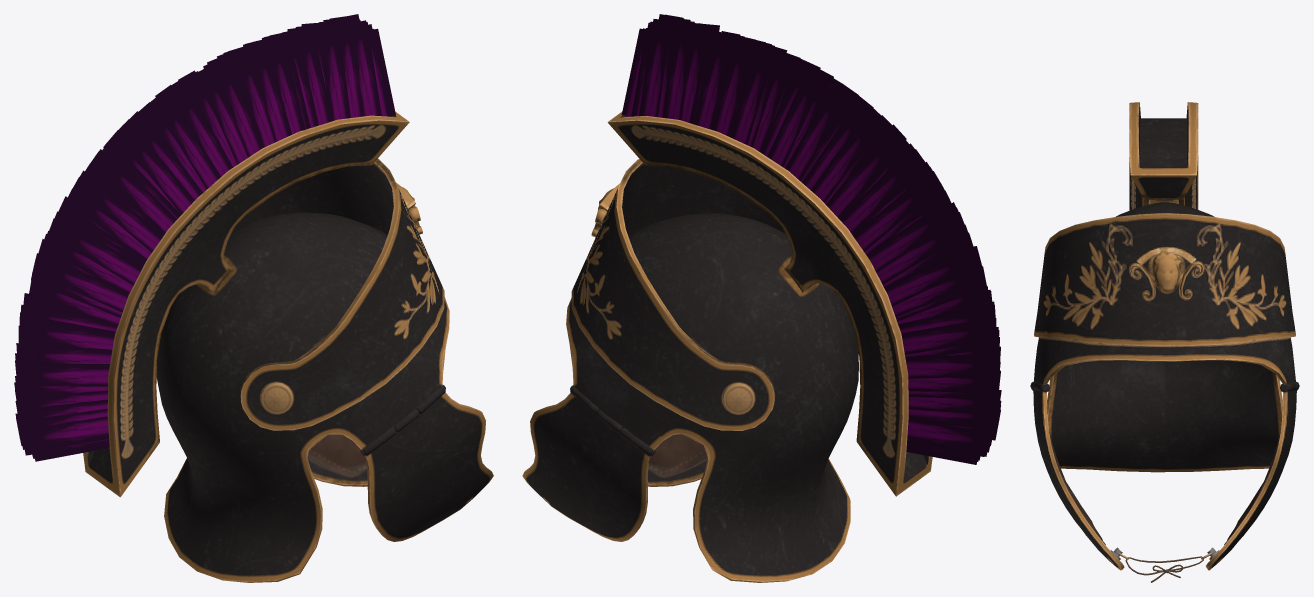
3 views of the same model, side by side, from view 1: azimuth 30°, elevation 25°; view 2: azimuth 150°, elevation 25°; view 3: azimuth 270°, elevation 25° (orthographic). The views are drawn at different scales.
Parts seen in each view (by area): view 1: Object_3, Object_2; view 2: Object_3, Object_2; view 3: Object_3.
Part boxes in pixels (x1,y1,x2,y2): Object_3: [83, 111, 493, 582]; Object_2: [14, 14, 395, 461]; Object_3: [522, 111, 932, 582]; Object_2: [621, 14, 1001, 464]; Object_3: [1030, 102, 1299, 582].
Size of the model in its own units: 2.51 by 2.77 by 1.41.
2 materials, 2 textured.
